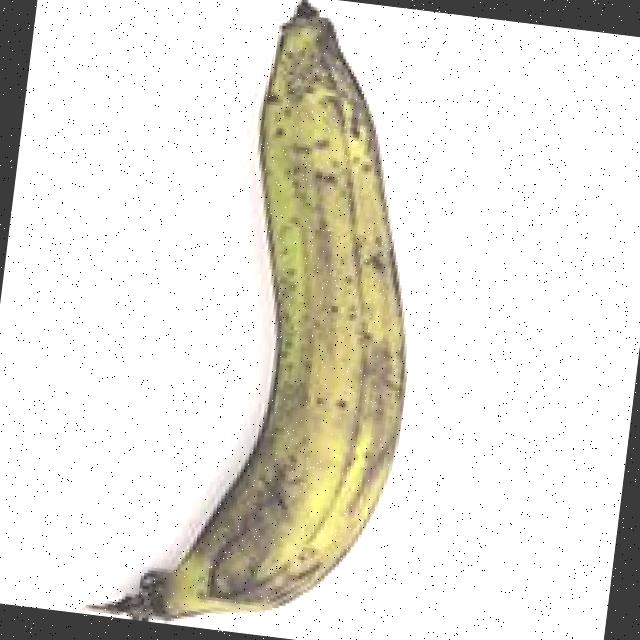Overripe: (68, 0, 473, 640)
